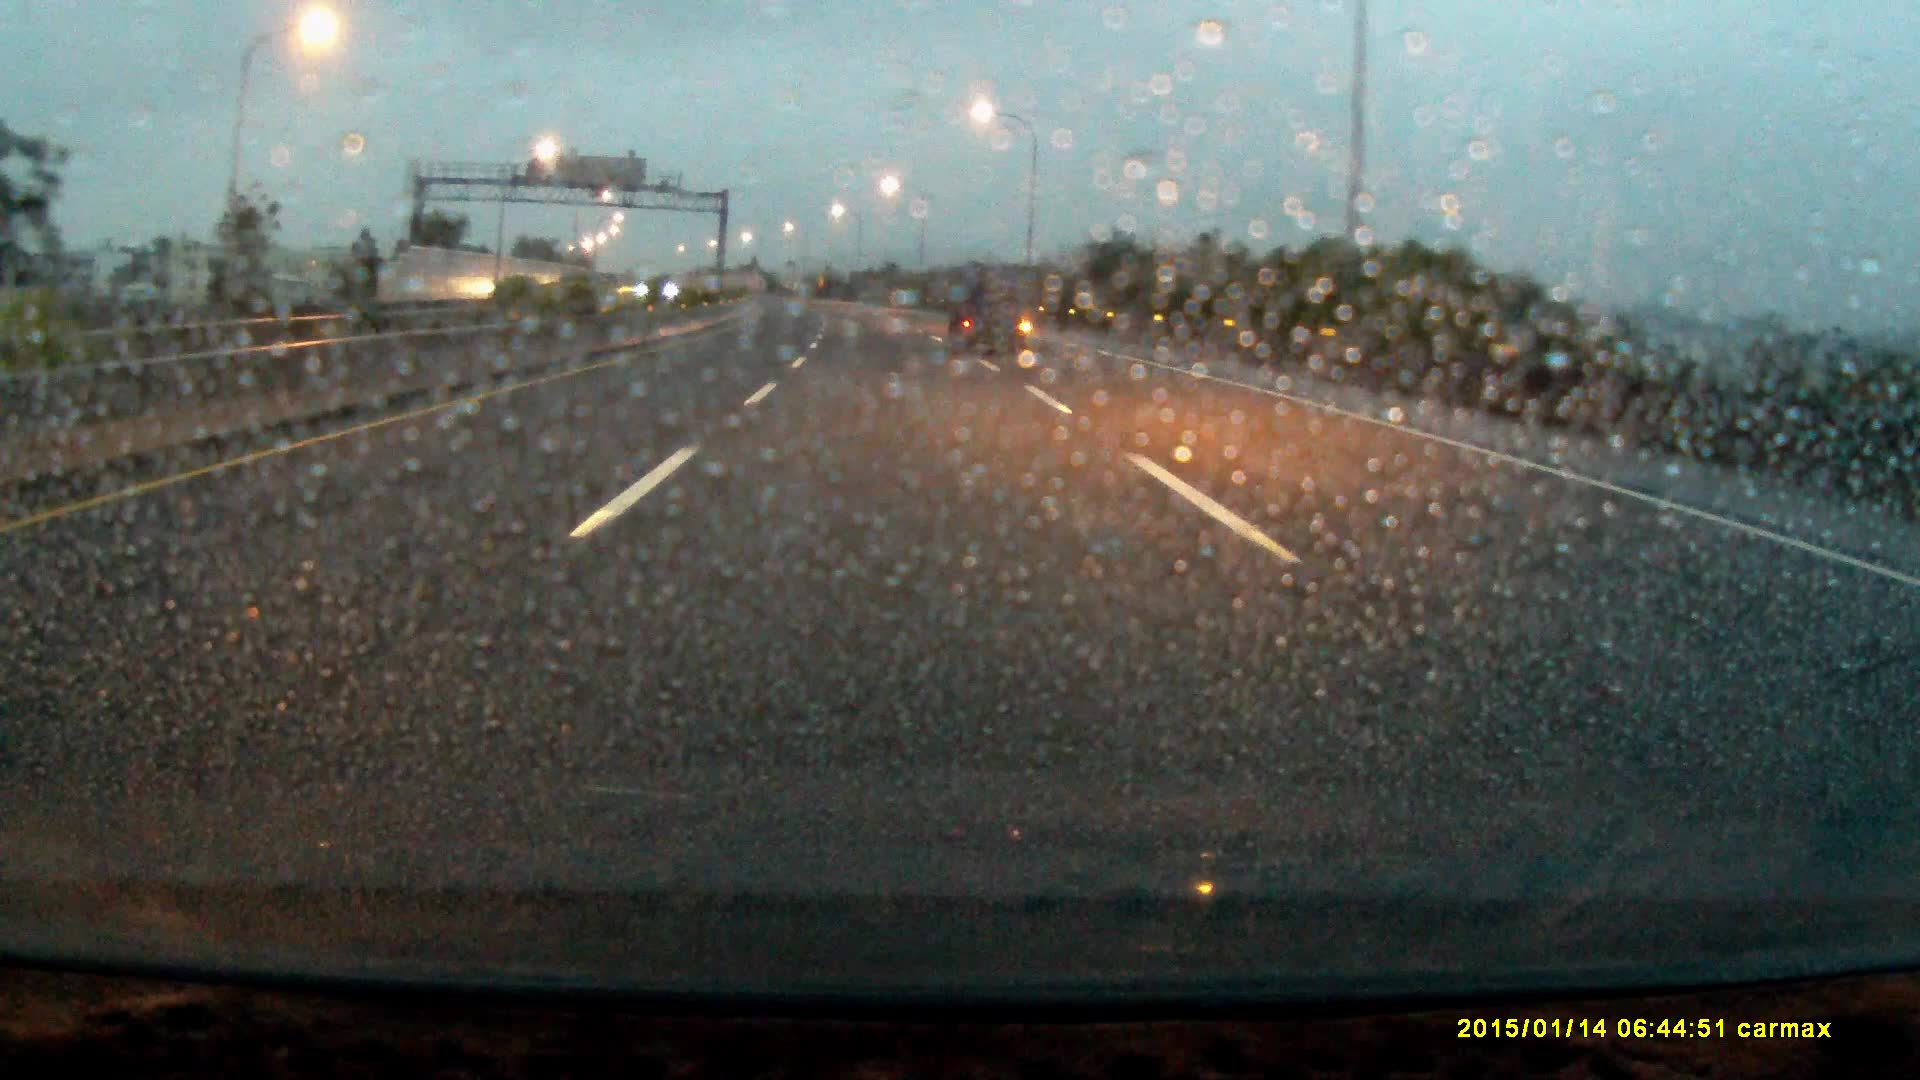vehicle: (947, 272, 1033, 360)
